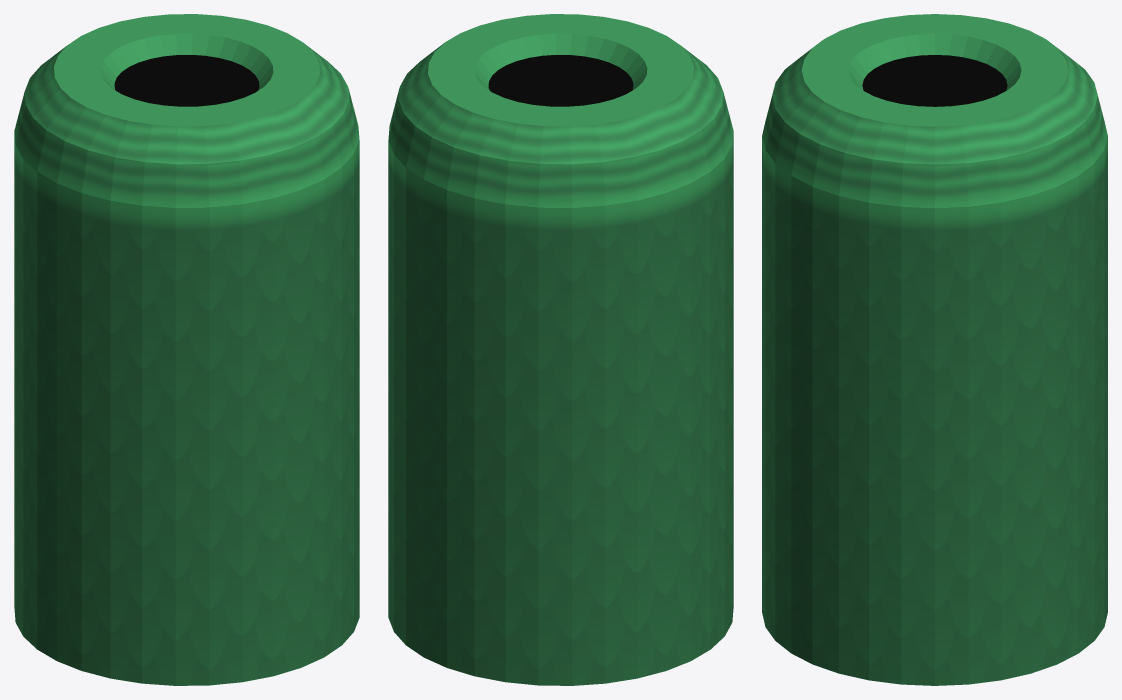
The model's file is bin.glb.
3 renders of one model, left to right at view 1: azimuth 30°, elevation 25°; view 2: azimuth 150°, elevation 25°; view 3: azimuth 270°, elevation 25°, orthographic.
Parts seen in each view (by area): view 1: Cylinder; view 2: Cylinder; view 3: Cylinder.
Boxes of the visible parts, bbox=[...] form: Cylinder: bbox=[14, 14, 359, 685]; Cylinder: bbox=[388, 14, 733, 685]; Cylinder: bbox=[762, 14, 1107, 685].
Size of the model in its own units: 0.5855 by 1.01 by 0.5855.
5 materials, 3 textured.
